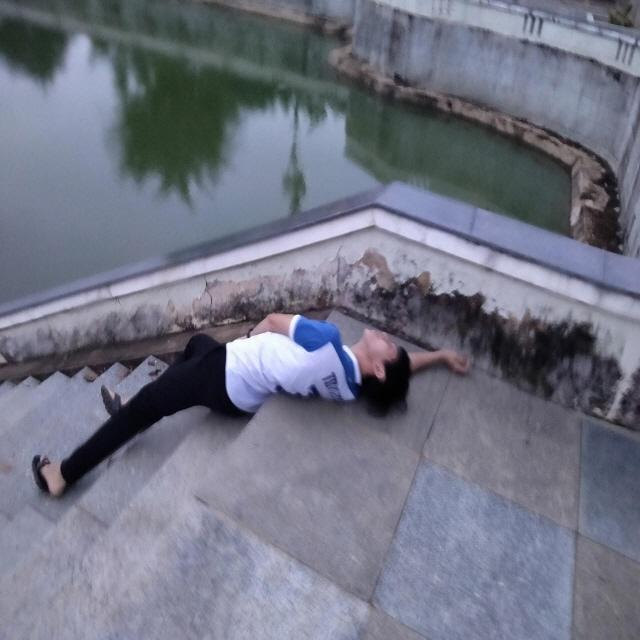Fall: (31, 315, 471, 498)
